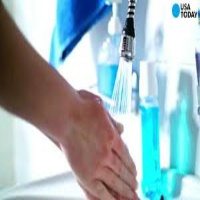ring: (101, 167, 133, 197)
